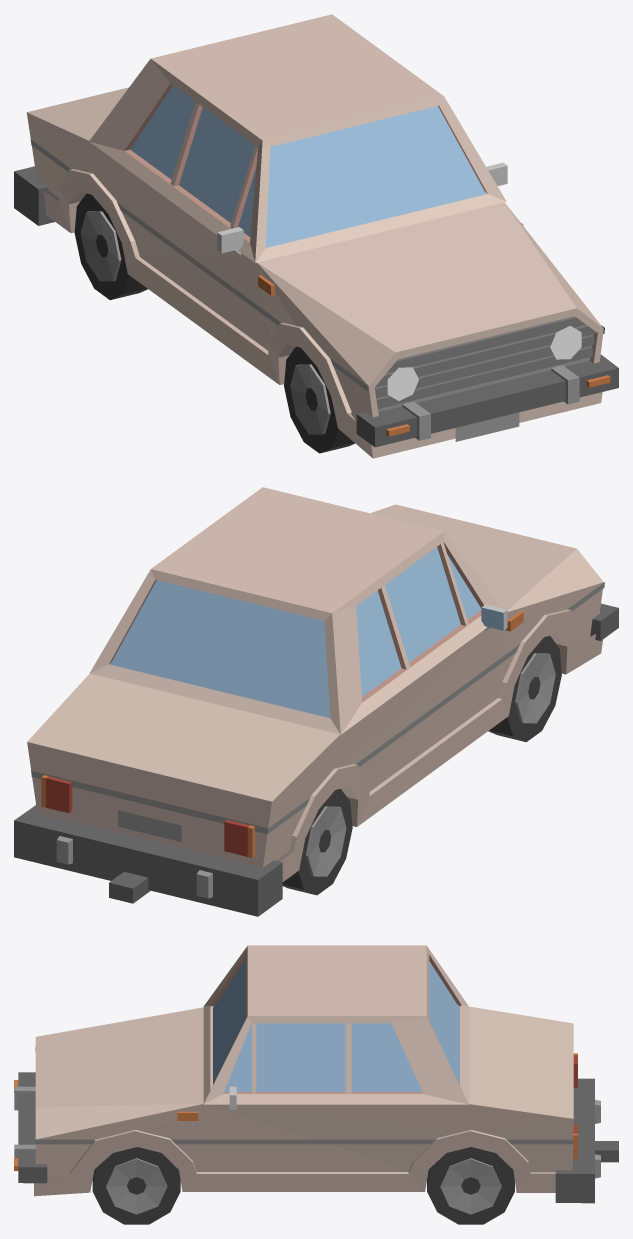
File: transport_old_006.glb
The picture shows the model from 3 angles, top to bottom: view 1: azimuth 30°, elevation 25°; view 2: azimuth 150°, elevation 25°; view 3: azimuth 270°, elevation 25°; orthographic projection. The views are drawn at different scales.
Parts seen in each view (by area): view 1: transport_old_006; view 2: transport_old_006; view 3: transport_old_006.
Part boxes in pixels (box(x1,y1,x2,y2)): transport_old_006: box(14, 14, 618, 458); transport_old_006: box(14, 487, 618, 916); transport_old_006: box(14, 945, 618, 1224).
Bounding box in the file's own units: 1.48 × 1.24 × 3.39.
Materials: 1 (1 with a texture image).
